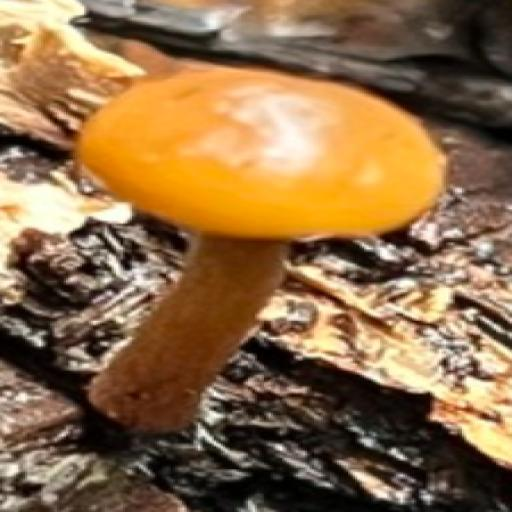Funeral Bell: (75, 65, 448, 441)
